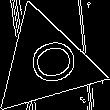O_W: (15, 35, 77, 91)
